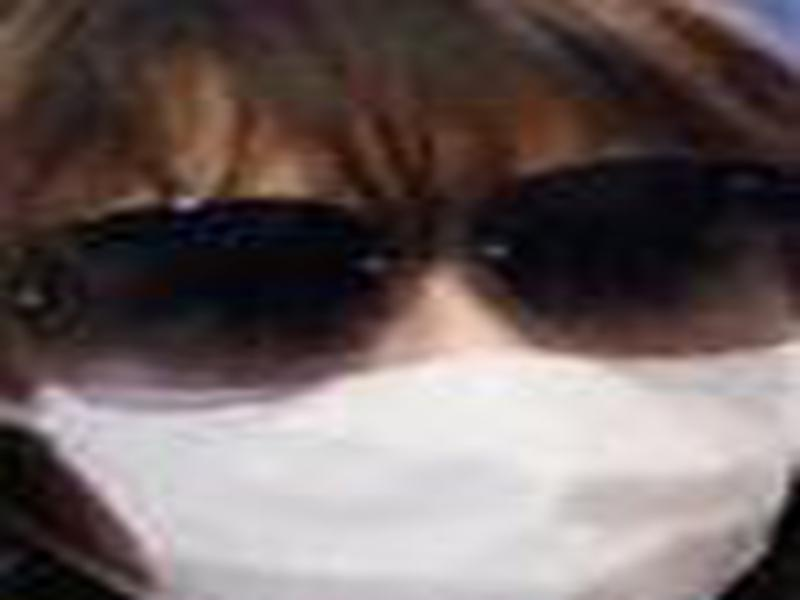with_mask: (1, 19, 795, 600)
